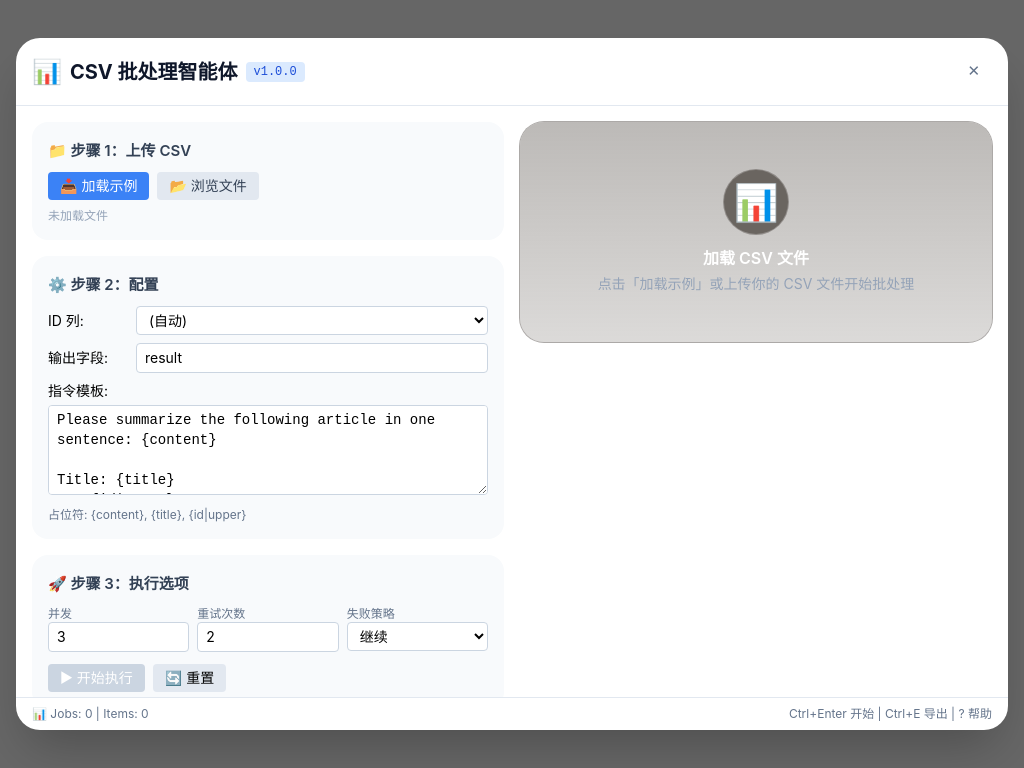
Test: CsvBatchPanel › 启动任务后显示进度
The width and height of the screenshot is (1024, 768).
Click the button with test id "load-sample-btn".
click(99, 186)  # box [48, 172, 149, 200]
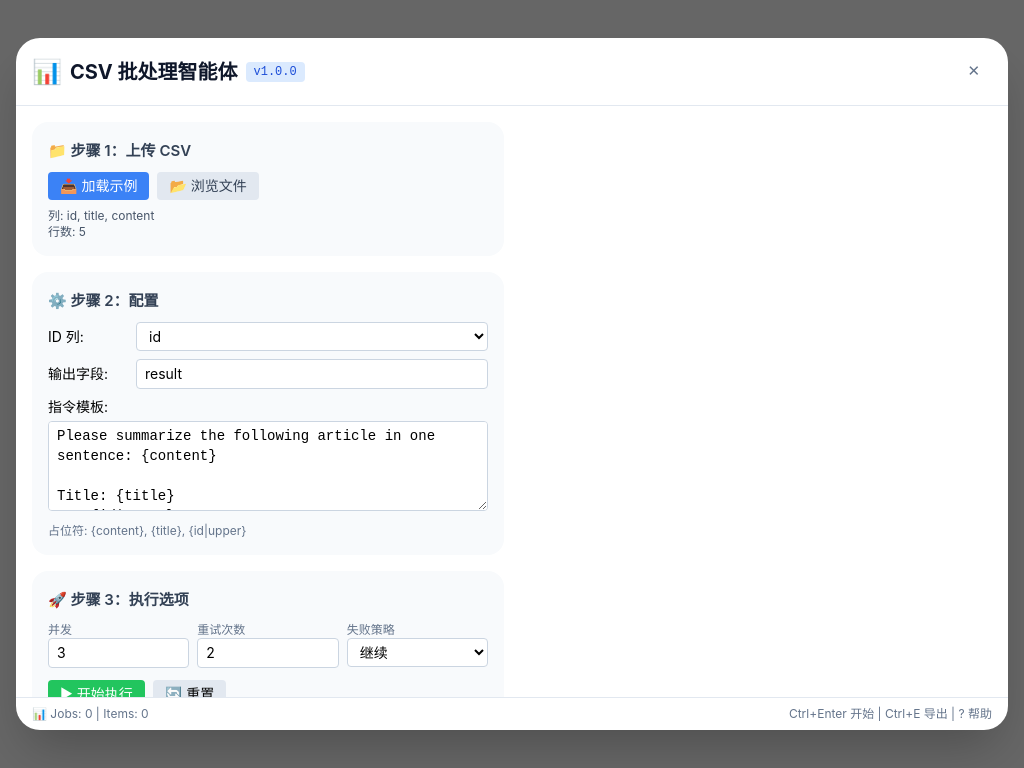
Click the button with test id "start-btn".
click(96, 694)  # box [48, 680, 145, 708]
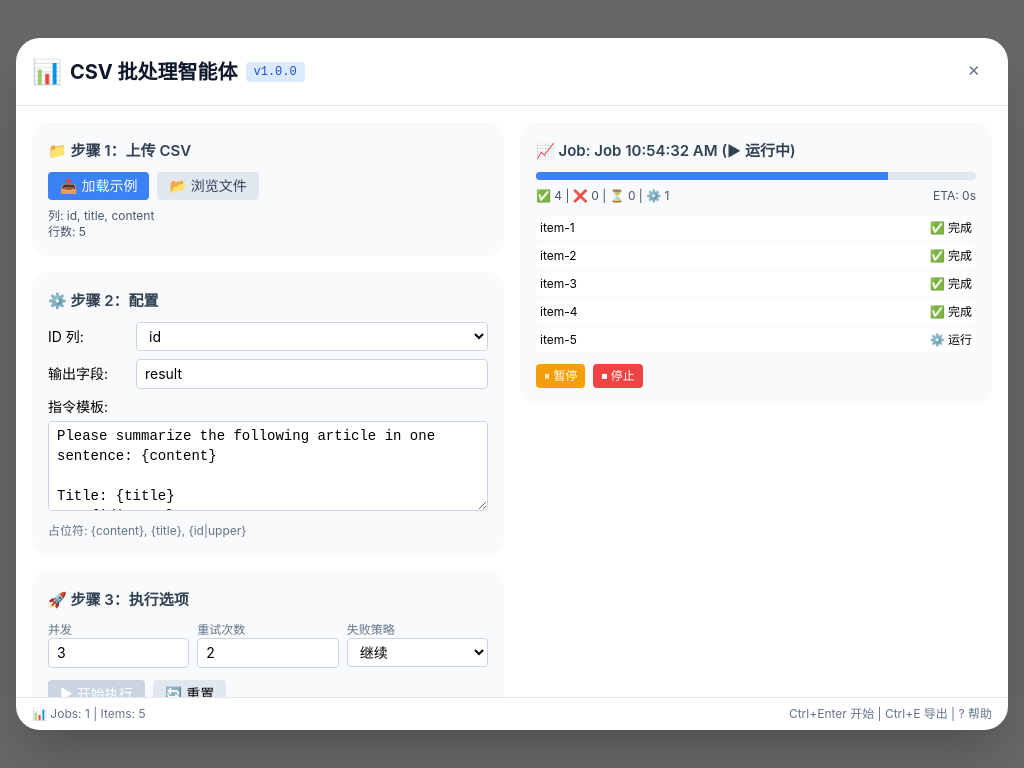
expect the element with test id "progress-bar" is shown: met, box [536, 172, 888, 180]
